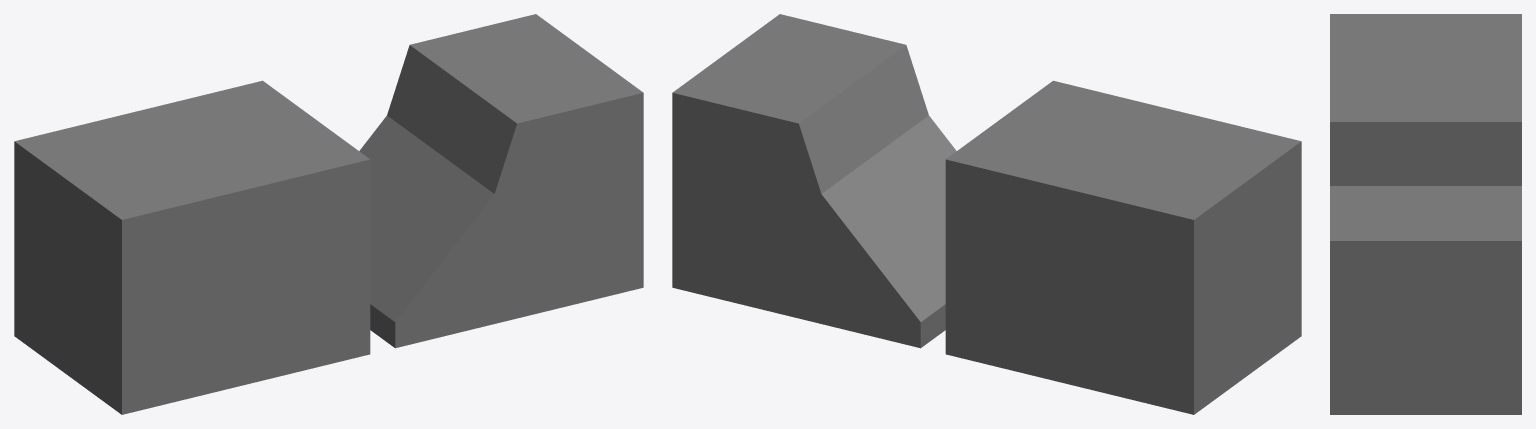
The model's file is С14_Кромки.glb.
3 views of the same model, side by side, from view 1: azimuth 30°, elevation 25°; view 2: azimuth 150°, elevation 25°; view 3: azimuth 270°, elevation 25° (orthographic). The views are drawn at different scales.
Visible parts, largest first — view 1: node_id3; view 2: node_id3; view 3: node_id3.
Part boxes in pixels (x1,y1,x2,y2): node_id3: [14, 14, 643, 414]; node_id3: [672, 14, 1301, 414]; node_id3: [1330, 14, 1521, 414].
Bounding box in the file's own units: 0.512 × 0.1829 × 0.1829.
Materials: 1 (1 with a texture image).
